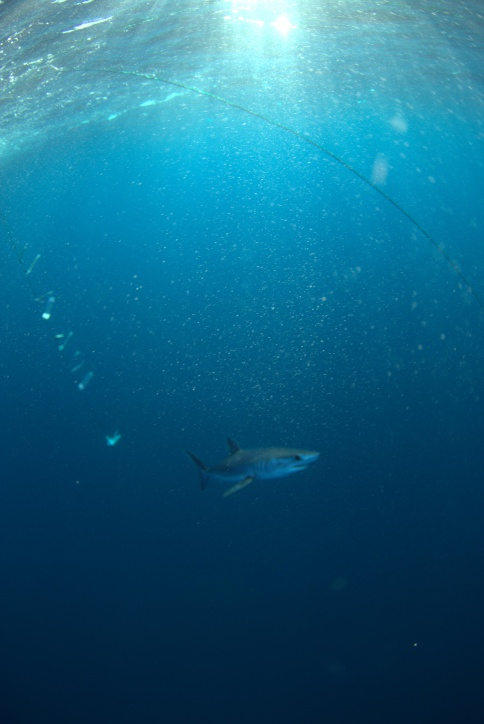Mako: (172, 422, 335, 518)
